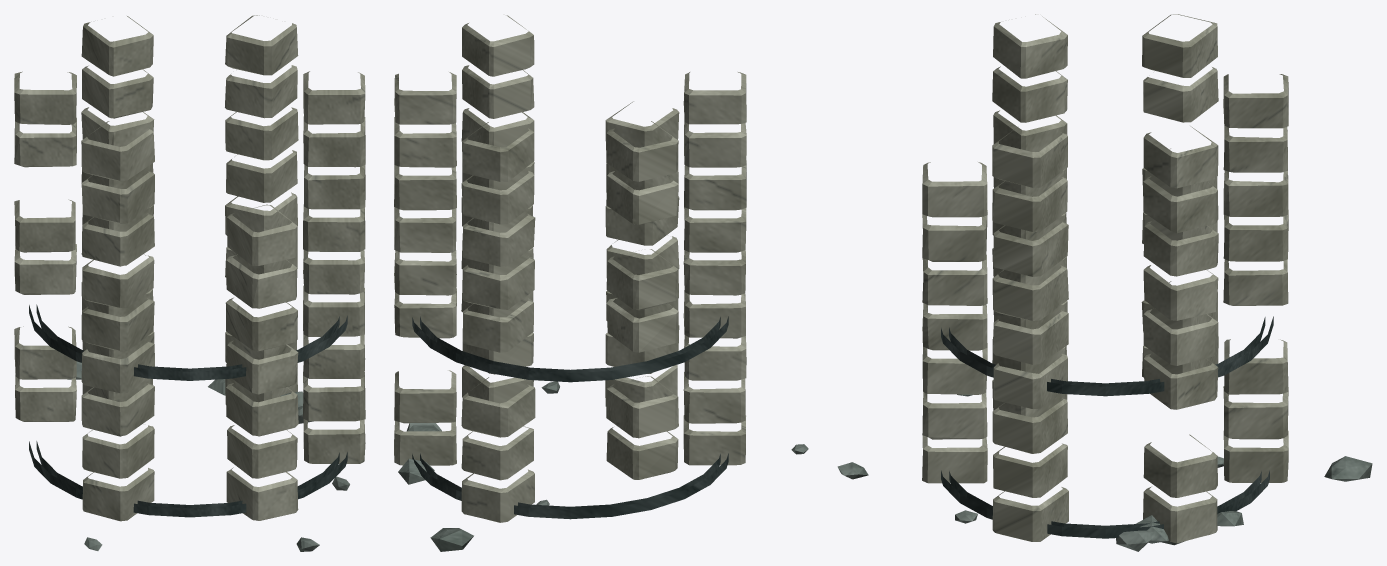
The model's file is 0408_ruined_tower_08.glb.
3 views of the same model, side by side, from view 1: azimuth 30°, elevation 25°; view 2: azimuth 150°, elevation 25°; view 3: azimuth 270°, elevation 25° (orthographic). The views are drawn at different scales.
Visible parts, largest first — view 1: stone_light, stone_dark, stone; view 2: stone_light, stone_dark, stone; view 3: stone_light, stone_dark, stone.
Boxes of the visible parts, box(x1,y1,x2,y2) form: stone_light: box(14, 15, 365, 521); stone_dark: box(29, 304, 347, 517); stone: box(67, 361, 349, 551); stone_light: box(394, 15, 746, 522); stone_dark: box(412, 316, 728, 519); stone: box(398, 381, 808, 551); stone_light: box(922, 14, 1288, 543); stone_dark: box(941, 316, 1273, 538); stone: box(837, 394, 1372, 551).
Size of the model in its own units: 3.27 by 3.81 by 4.6.
Materials: 3 (3 with a texture image).
